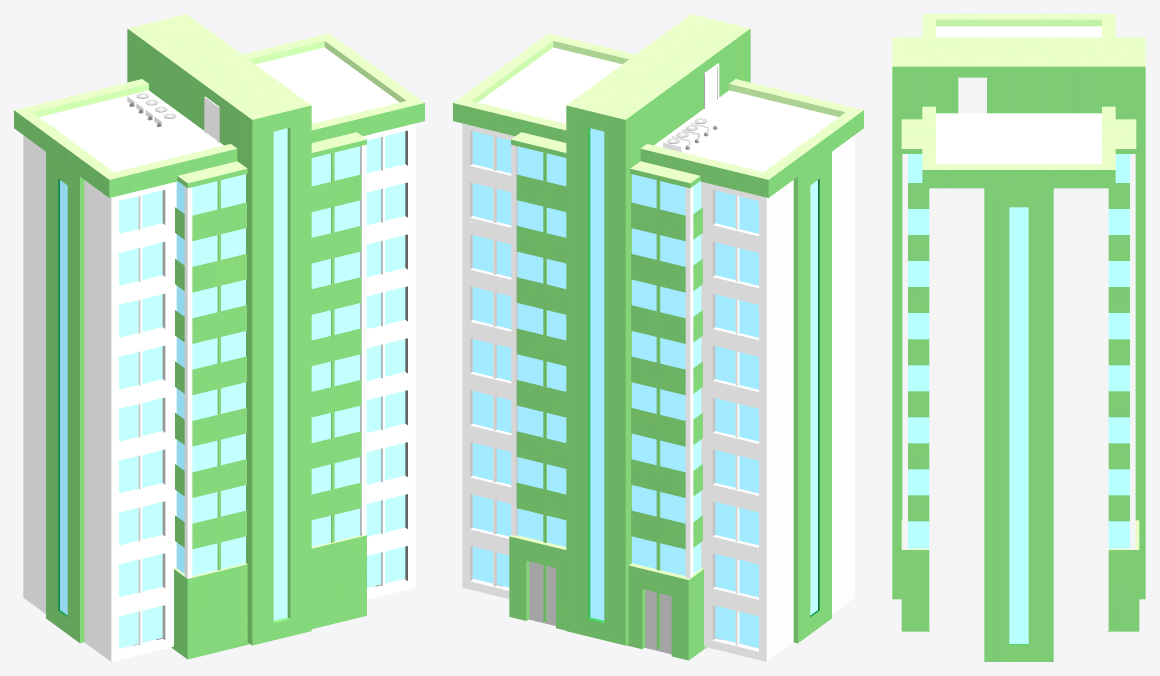
File: apartment 1.004.glb
3 views of the same model, side by side, from view 1: azimuth 30°, elevation 25°; view 2: azimuth 150°, elevation 25°; view 3: azimuth 270°, elevation 25° (orthographic).
Parts seen in each view (by area): view 1: apartment 1.004(Clone); view 2: apartment 1.004(Clone); view 3: apartment 1.004(Clone).
Part boxes in pixels (x1,y1,x2,y2): apartment 1.004(Clone): (14,14,424,661); apartment 1.004(Clone): (453,14,863,661); apartment 1.004(Clone): (892,14,1145,661).
Bounding box in the file's own units: 13.9 × 22.29 × 9.54.
1 material, 1 textured.
